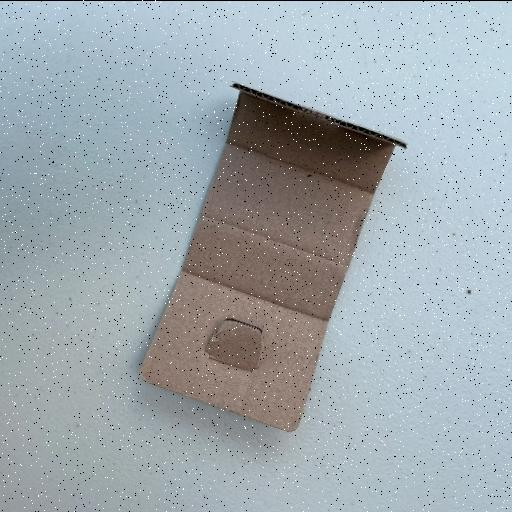Cardboard: (137, 80, 407, 432)
